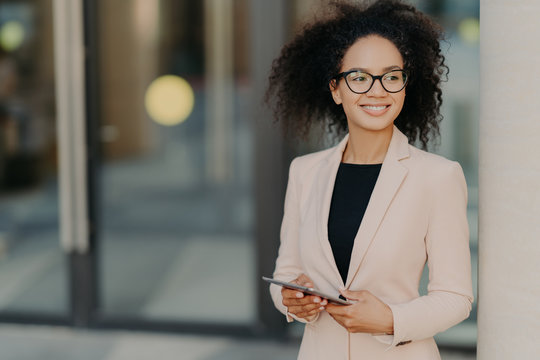face: (322, 28, 408, 132)
